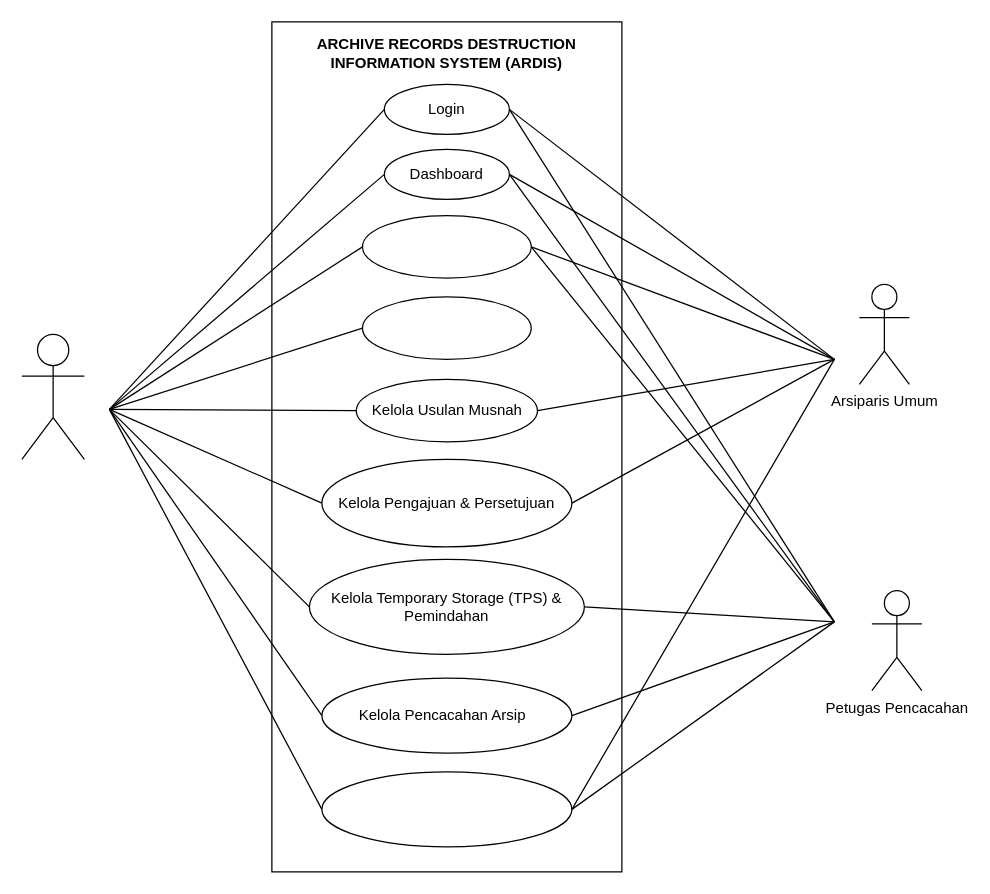
Image size: 990x894. Some labels were removed from this diagram. The shapes that lost their labels are listed below. From the top down, each one's box as (x1, y1, x2, y2) in pixels, then its label:
(361, 214, 531, 278): Data Pegawai
(361, 296, 531, 359): Kelola Role
(21, 333, 84, 459): Admin
(321, 771, 572, 847): Riwayat Pemusnahan
